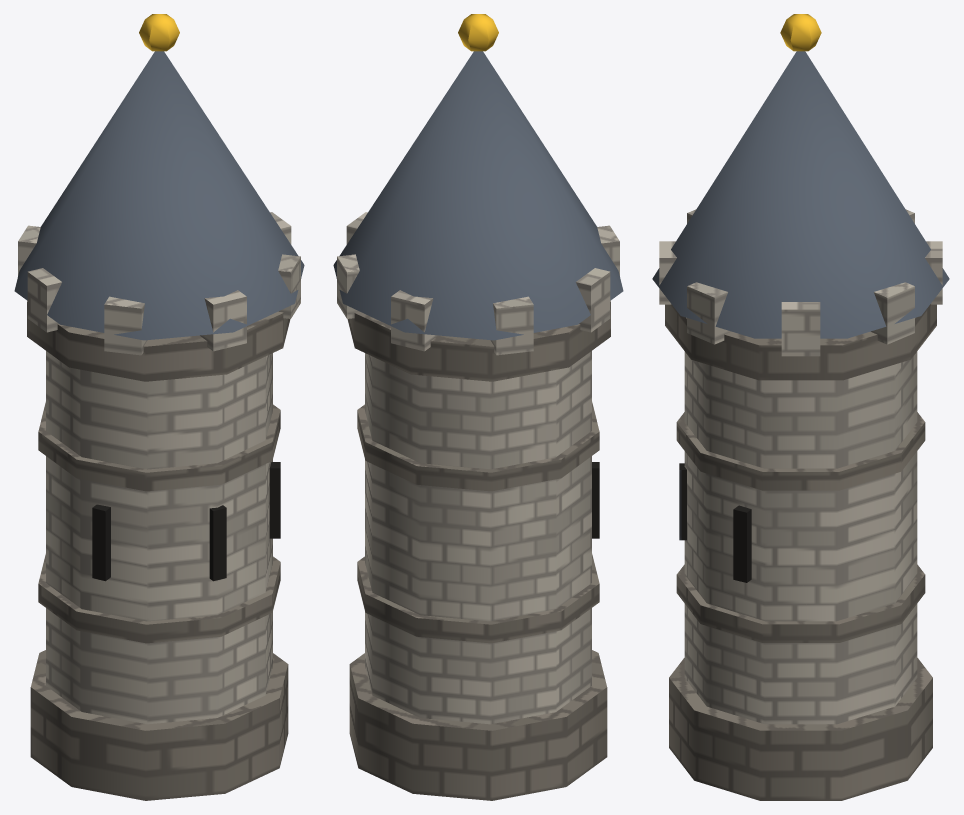
The model's file is fort_l3_post.glb.
3 views of the same model, side by side, from view 1: azimuth 30°, elevation 25°; view 2: azimuth 150°, elevation 25°; view 3: azimuth 270°, elevation 25° (orthographic).
Parts seen in each view (by area): view 1: fort_l3_post; view 2: fort_l3_post; view 3: fort_l3_post.
Boxes of the visible parts, x1,y1,x2,y2 form: fort_l3_post: [14, 14, 304, 800]; fort_l3_post: [333, 14, 623, 800]; fort_l3_post: [652, 14, 949, 800].
Bounding box in the file's own units: 0.219 × 0.626 × 0.23.
1 material, 1 textured.
